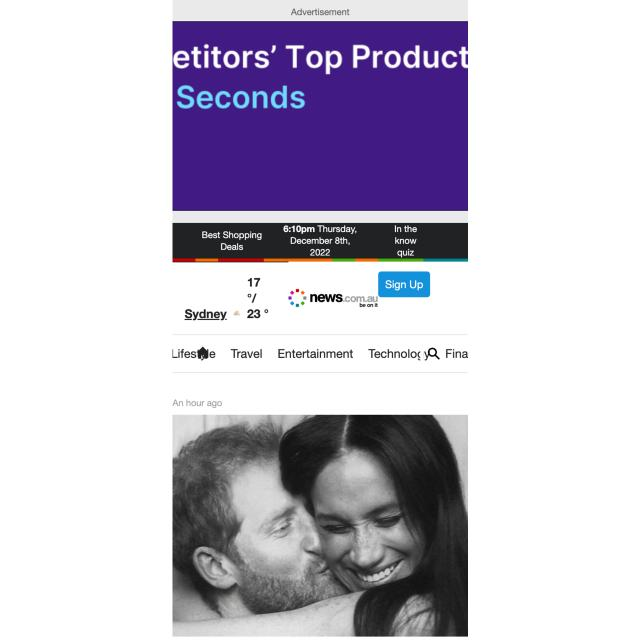logo: (282, 283, 379, 319)
navigation: (172, 223, 469, 262), (170, 336, 471, 372)
